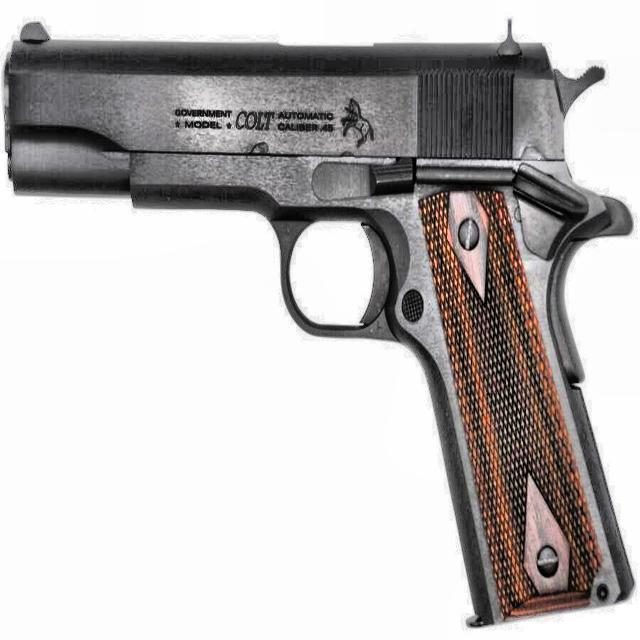Colt m1911: (1, 17, 635, 628)
